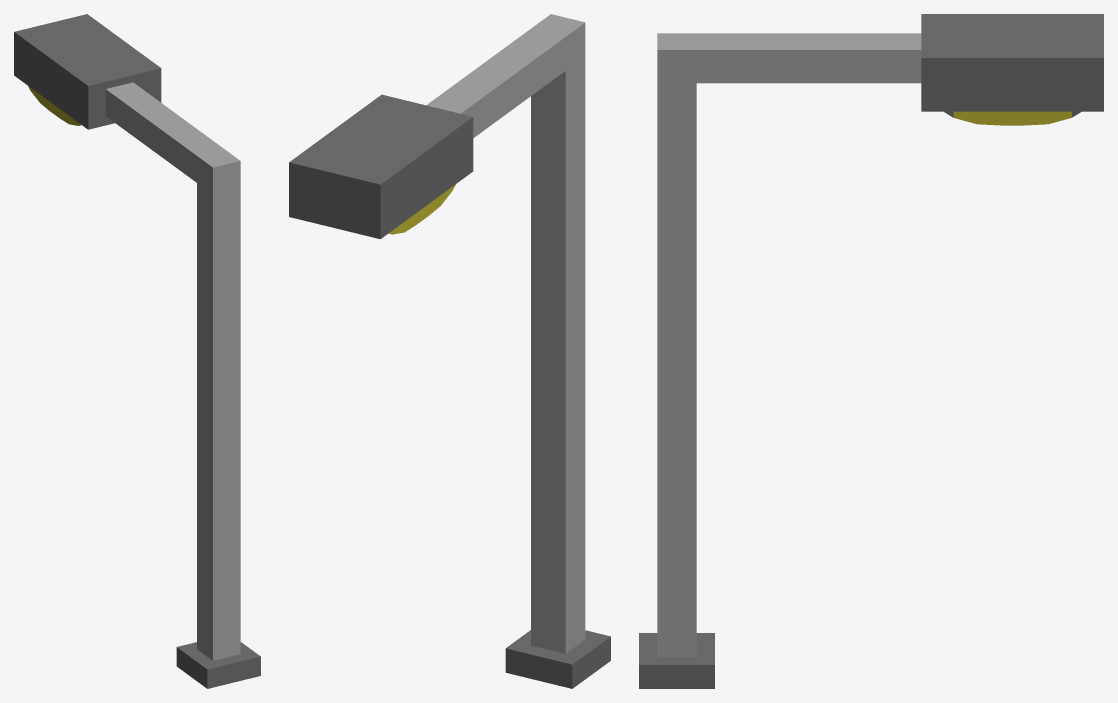
Rendered from lampadaire.fbx.
3 renders of one model, left to right at view 1: azimuth 30°, elevation 25°; view 2: azimuth 150°, elevation 25°; view 3: azimuth 270°, elevation 25°, orthographic. The views are drawn at different scales.
Parts seen in each view (by area): view 1: lampadaire; view 2: lampadaire; view 3: lampadaire.
Part boxes in pixels (x1=…): lampadaire: x1=14, y1=14, x2=260, y2=688; lampadaire: x1=289, y1=14, x2=610, y2=688; lampadaire: x1=639, y1=14, x2=1103, y2=688.
Bounding box in the file's own units: 0.6265 × 4.26 × 2.8.
